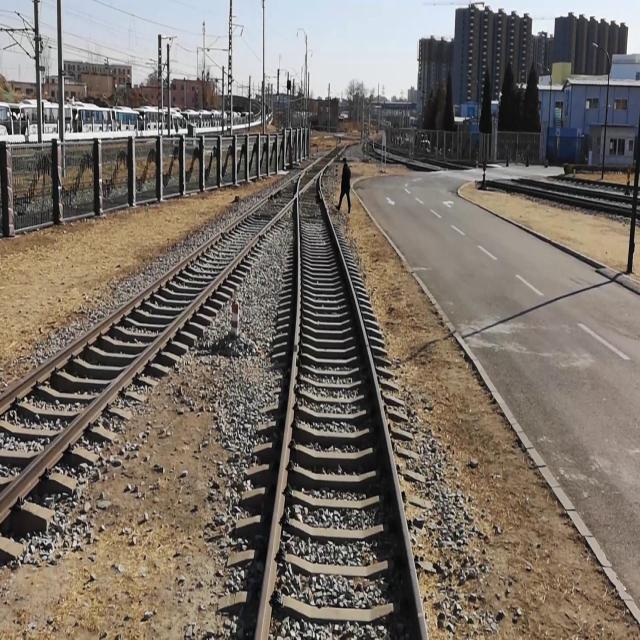rail: (1, 144, 349, 524), (1, 147, 339, 418), (320, 172, 430, 640), (255, 172, 307, 640)
